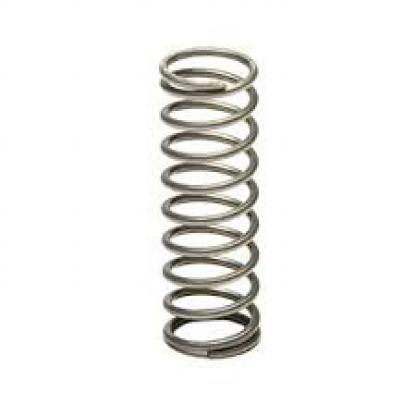FOD: (134, 43, 276, 364)
